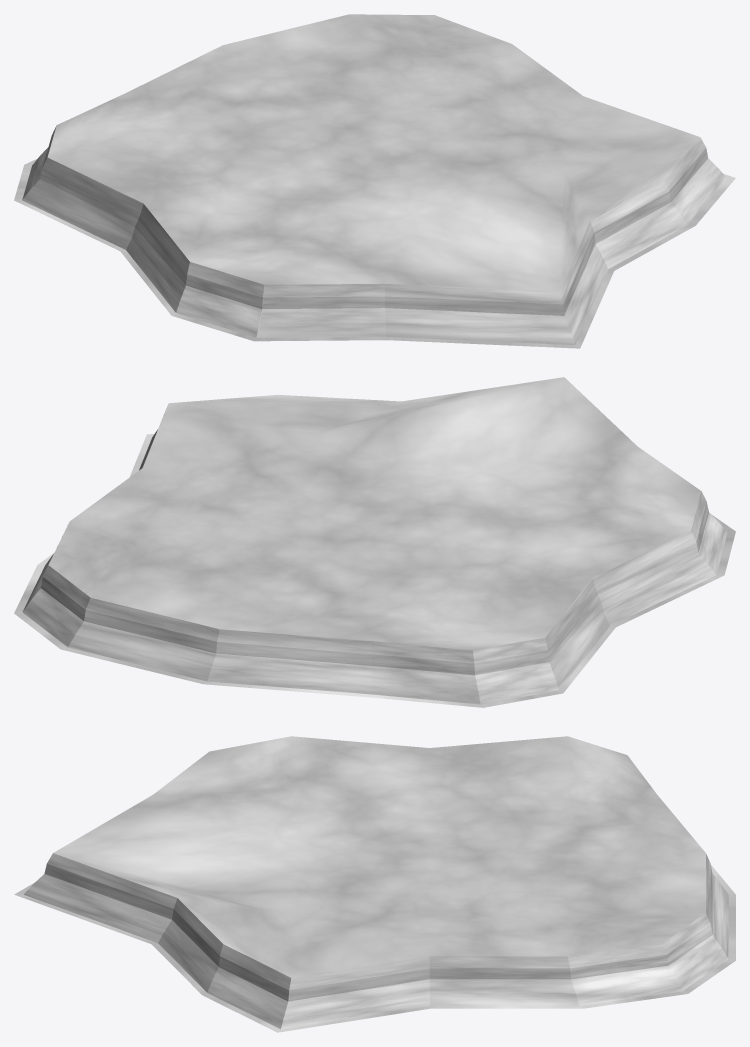
Rendered from Large_StepStone.obj.
3 renders of one model, top to bottom at view 1: azimuth 30°, elevation 25°; view 2: azimuth 150°, elevation 25°; view 3: azimuth 270°, elevation 25°, orthographic. The views are drawn at different scales.
Parts seen in each view (by area): view 1: Cube_Cube.001; view 2: Cube_Cube.001; view 3: Cube_Cube.001.
Boxes of the visible parts, x1,y1,x2,y2 form: Cube_Cube.001: (14, 14, 735, 348); Cube_Cube.001: (14, 377, 735, 707); Cube_Cube.001: (14, 736, 735, 1032).
Bounding box in the file's own units: 12.8 × 0.9233 × 14.62.
Materials: 1 (1 with a texture image).
